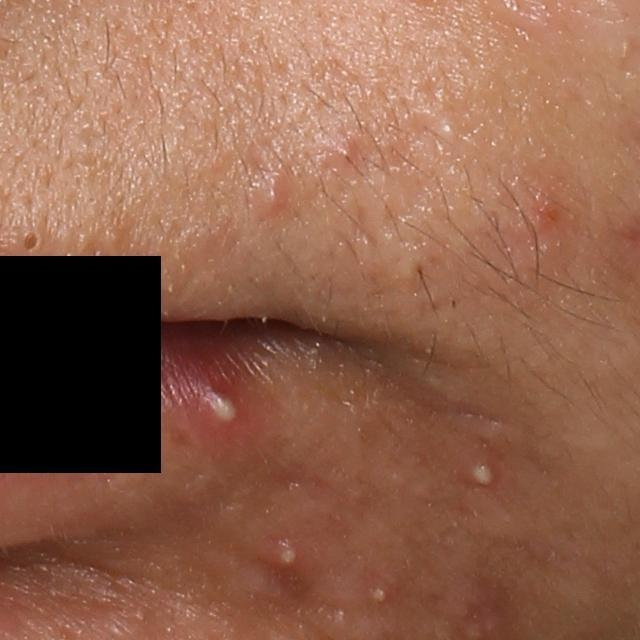comedo: (13, 223, 47, 256)
papule: (247, 166, 293, 215), (323, 131, 366, 171), (529, 195, 567, 235)
pustule: (188, 383, 250, 437), (261, 536, 311, 577), (463, 454, 508, 495), (364, 578, 398, 613)
